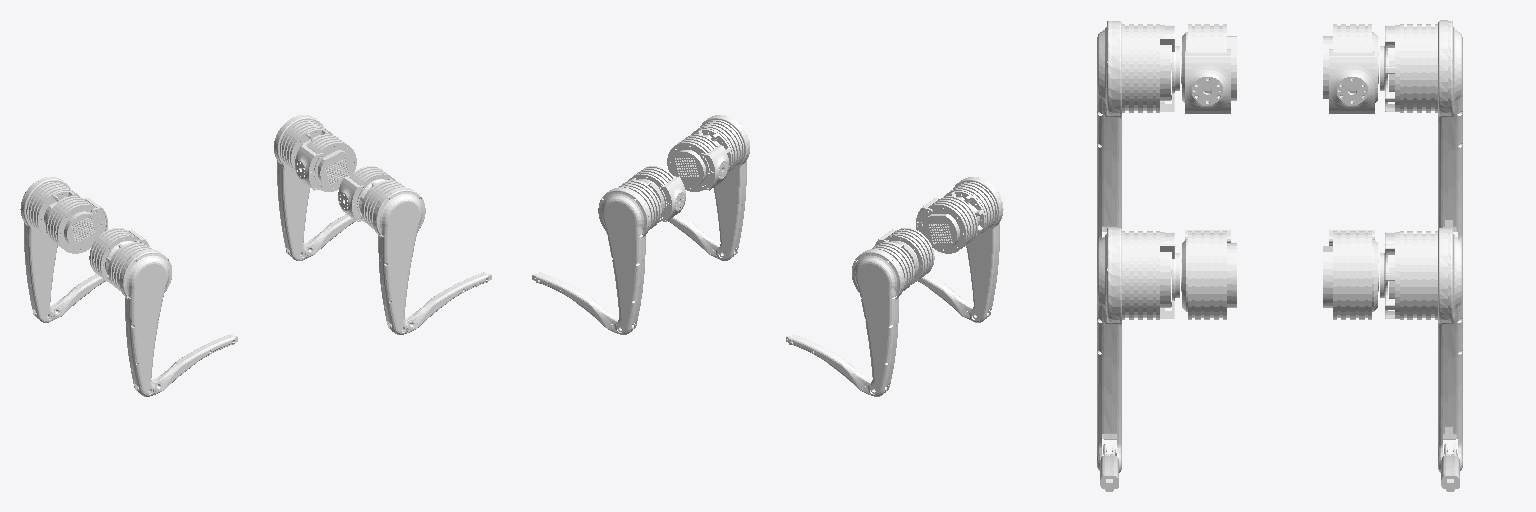
robot.urdf — jamal_description:
<?xml version="1.0" encoding="utf-8"?>
<!-- This URDF was automatically created by SolidWorks to URDF Exporter! Originally created by
[author] ([email redacted]) 
     Commit Version: 1.6.0-4-g7f85cfe  Build Version: 1.6.7995.38578
     For more information, please see http://wiki.ros.org/sw_urdf_exporter -->
<robot
  name="jamal_description">
  <link
    name="base">
    <inertial>
    <origin rpy="0 0 0" xyz="0.0 0 0.0"/>
      <mass value="12.8185384756311"/>
      <inertia ixx="0.0565667940678376" ixy="-8.54731557026013e-06" ixz="3.411601276539e-05" iyy="0.0364645326398335" iyz="-4.86965244292946e-06" izz="0.0737588756462406"/>
    </inertial>
    <visual>
      <origin
        xyz="0 0 0"
        rpy="0 0 0" />
      <geometry>
        <mesh
          filename="../dae/base.dae" />
      </geometry>
      <material
        name="">
        <color
          rgba="1 1 1 1" />
      </material>
    </visual>
    <collision>
      <origin rpy="0 0 0" xyz="0 0 0" />
      <geometry>
        <box size="0.3762 0.2 0.114" />
      </geometry>
    </collision>
  </link>
  <link
    name="FL_hip">
    <inertial>
      <origin rpy="0 0 0" xyz="0.0 0.0 0.0"/>
      <mass value="0.933762854916433"/>
      <inertia ixx="0.000832273911083319" ixy="2.01742652907359e-06" ixz="-9.96248193966734e-07" iyy="0.00106512043176046" iyz="-3.27660400510853e-06" izz="0.000803680416601427"/>
    </inertial>
    <visual>
      <origin
        xyz="0 0 0"
        rpy="0 0 0" />
      <geometry>
        <mesh
          filename="../dae/hip.dae" />
      </geometry>
      <material
        name="">
        <color
          rgba="1 1 1 1" />
      </material>
    </visual>
    <collision>
      <origin rpy="1.5707963267948966 0 0" xyz="0 0.0 0" />
      <geometry>
        <cylinder length="0.04" radius="0.046" />
      </geometry>
    </collision>
  </link>
  <joint
    name="FL_hip_joint"
    type="revolute">
    <origin
      rpy="0 0 0" xyz="0.2699 0.08028 0"/>
    <parent
      link="base" />
    <child
      link="FL_hip" />
    <axis
      xyz="1 0 0" />
    <limit
      lower="-0.53"
      upper="0.53"
      effort="100"
      velocity="8" />
  </joint>
  <link
    name="FL_thigh">
    <inertial>
      <origin rpy="0 0 0" xyz="0.0 0.0 0.0"/>
      <mass value="1.32134262348697"/>
      <inertia ixx="0.00262880898900224" ixy="3.0753036678596e-07" ixz="-6.6121911239445e-05" iyy="0.00316091750463634" iyz="4.01609105247509e-05" izz="0.00121962195056961"/>
    </inertial>
    <visual>
      <origin
        xyz="0 0 0"
        rpy="0 0 0" />
      <geometry>
        <mesh
          filename="../dae/thigh.dae" />
      </geometry>
      <material
        name="">
        <color
          rgba="1 1 1 1" />
      </material>
    </visual>
    <collision>
      <!-- <origin rpy="0 ${pi/2.0+0.1} 0" xyz="${thigh_x_offset} 0 ${-thigh_length/2.0}"/> -->
      <origin rpy="0 1.5707963267948966 0" xyz="0.0 0 -0.1125"/>
      <geometry>
        <box size="0.225 0.0245 0.034"/>
      </geometry>
    </collision>
    <collision>
      <origin rpy="1.5707963267948966 0 0" xyz="0 -0.008 0"/>
      <geometry>
        <cylinder length="0.032" radius="0.041"/>
      </geometry>
    </collision>
  </link>
  <joint
    name="FL_thigh_joint"
    type="revolute">
    <origin
      xyz="0 0.10755 0"
      rpy="0 0 0" />
    <parent
      link="FL_hip" />
    <child
      link="FL_thigh" />
    <axis
      xyz="0 1 0" />
    <limit
      lower="-1.5708"
      upper="3.4907"
      effort="100"
      velocity="8" />
  </joint>
  <link
    name="FL_calf">
    <inertial>
      <origin rpy="0 0 0" xyz="0.0 0.0 0.0"/>
      <mass value="0.12879265462489"/>
      <inertia ixx="0.000445341853265945" ixy="-7.71823686634482e-09" ixz="7.55836697902452e-05" iyy="0.000465686753688402" iyz="4.84096470394828e-09" izz="2.34278965180016e-05"/>
    </inertial>
    <visual>
      <origin
        xyz="0 0 0"
        rpy="0 0 0" />
      <geometry>
        <mesh
          filename="../dae/calf.dae" />
      </geometry>
      <material
        name="">
        <color
          rgba="1 1 1 1" />
      </material>
    </visual>
    <collision>
      <origin rpy="0 1.5707963267948966 0" xyz="0.0 0 -0.1175"/>
      <geometry>
        <box size="0.23 0.016 0.016"/>
      </geometry>
    </collision>
  </link>
  <joint
    name="FL_calf_joint"
    type="revolute">
    <origin
      xyz="0 0 -0.225"
      rpy="0 0 0" />
    <parent
      link="FL_thigh" />
    <child
      link="FL_calf" />
    <axis
      xyz="0 1 0" />
    <limit
      lower="-2.7227"
      upper="-0.83776"
      effort="100"
      velocity="20.07" />
  </joint>
  <link
    name="FL_foot">
    <inertial>
      <mass value="0.06"/>
      <inertia ixx="6.936000000000001e-06" ixy="0.0" ixz="0.0" iyy="6.936000000000001e-06" iyz="0.0" izz="6.936000000000001e-06"/>
    </inertial>
    <visual>
      <origin
        xyz="0 0 0"
        rpy="0 0 0" />
      <geometry>
        <mesh
          filename="../dae/foot.dae" />go2
      </geometry>
      <material
        name="">
        <color
          rgba="1 1 1 1" />
      </material>
    </visual>
    <collision>
      <origin rpy="0 0 0" xyz="0 0 0" />
      <geometry>
        <sphere radius="0.022" />
      </geometry>
    </collision>
  </link>
  <joint
    name="FL_foot_joint"
    type="fixed" dont_collapse="true">
    <origin
      xyz="0 0 -0.23"
      rpy="0 0 0" />
    <parent
      link="FL_calf" />
    <child
      link="FL_foot" />
    <axis
      xyz="0 0 0" />
  </joint>
  <link
    name="FR_hip">
    <inertial>
      <origin rpy="0 0 0" xyz="0.0 -0.0 0.0"/>
      <mass value="0.933762854916433"/>
      <inertia ixx="0.000832273911083319" ixy="-2.01742652907359e-06" ixz="-9.96248193966734e-07" iyy="0.00106512043176046" iyz="3.27660400510853e-06" izz="0.000803680416601427"/>
    </inertial>
    <visual>
      <origin
        xyz="0 0 0"
        rpy="3.1415 0 0" />
      <geometry>
        <mesh
          filename="../dae/hip.dae" />
      </geometry>
      <material
        name="">
        <color
          rgba="1 1 1 1" />
      </material>
    </visual>
    <collision>
      <origin rpy="1.5707963267948966 0 0" xyz="0 0 0"/>
      <geometry>
        <cylinder length="0.04" radius="0.046"/>
      </geometry>
    </collision>
  </link>
  <joint
    name="FR_hip_joint"
    type="revolute">
    <origin rpy="0 0 0" xyz="0.2699 -0.08028 0"/>
    <parent
      link="base" />
    <child
      link="FR_hip" />
    <axis
      xyz="1 0 0" />
    <limit
      lower="-0.53"
      upper="0.53"
      effort="100"
      velocity="8" />
  </joint>
  <link
    name="FR_thigh">
    <inertial>
      <origin rpy="0 0 0" xyz="0.0 -0.0 0.0"/>
      <mass value="1.32134262348697"/>
      <inertia ixx="0.00262880898900224" ixy="-3.0753036678596e-07" ixz="-6.6121911239445e-05" iyy="0.00316091750463634" iyz="-4.01609105247509e-05" izz="0.00121962195056961"/>
    </inertial>
    <visual>
      <origin
        xyz="0 0 0"
        rpy="0 0 0" />
      <geometry>
        <mesh
          filename="../dae/thigh_mirror.dae" />
      </geometry>
      <material
        name="">
        <color
          rgba="1 1 1 1" />
      </material>
    </visual>
    <collision>
      <!-- <origin rpy="0 ${pi/2.0+0.1} 0" xyz="${thigh_x_offset} 0 ${-thigh_length/2.0}"/> -->
      <origin rpy="0 1.5707963267948966 0" xyz="0.0 0 -0.1125"/>
      <geometry>
        <box size="0.225 0.0245 0.034"/>
      </geometry>
    </collision>
    <collision>
      <origin rpy="1.5707963267948966 0 0" xyz="0 0.008 0"/>
      <geometry>
        <cylinder length="0.032" radius="0.041"/>
      </geometry>
    </collision>
  </link>
  <joint
    name="FR_thigh_joint"
    type="revolute">
    <origin rpy="0 0 0" xyz="0 -0.10755 0"/>
    <parent
      link="FR_hip" />
    <child
      link="FR_thigh" />
    <axis
      xyz="0 1 0" />
    <limit
      lower="-1.5708"
      upper="3.4907"
      effort="100"
      velocity="8" />
  </joint>
  <link
    name="FR_calf">
    <inertial>
      <origin rpy="0 0 0" xyz="0.0 0.0 0.0"/>
      <mass value="0.12879265462489"/>
      <inertia ixx="0.000445341853265945" ixy="-7.71823686634482e-09" ixz="7.55836697902452e-05" iyy="0.000465686753688402" iyz="4.84096470394828e-09" izz="2.34278965180016e-05"/>
    </inertial>
    <visual>
      <origin
        xyz="0 0 0"
        rpy="0 0 0" />
      <geometry>
        <mesh
          filename="../dae/calf.dae" />
      </geometry>
      <material
        name="">
        <color
          rgba="1 1 1 1" />
      </material>
    </visual>
    <collision>
      <origin rpy="0 1.5707963267948966 0" xyz="0.0 0 -0.1175"/>
      <geometry>
        <box size="0.23 0.016 0.016"/>
      </geometry>
    </collision>
  </link>
  <joint
    name="FR_calf_joint"
    type="revolute">
    <origin rpy="0 0 0" xyz="0 0 -0.225"/>
    <parent
      link="FR_thigh" />
    <child
      link="FR_calf" />
    <axis
      xyz="0 1 0" />
    <limit
      lower="-2.7227"
      upper="-0.83776"
      effort="100"
      velocity="20.07" />
  </joint>
  <link
    name="FR_foot">
    <inertial>
      <mass value="0.06"/>
      <inertia ixx="6.936000000000001e-06" ixy="0.0" ixz="0.0" iyy="6.936000000000001e-06" iyz="0.0" izz="6.936000000000001e-06"/>
    </inertial>
    <visual>
      <origin
        xyz="0 0 0"
        rpy="0 0 0" />
      <geometry>
        <mesh
          filename="../dae/foot.dae" />
      </geometry>
      <material
        name="">
        <color
          rgba="1 1 1 1" />
      </material>
    </visual>
    <collision>
      <origin rpy="0 0 0" xyz="0 0 0"/>
      <geometry>
        <sphere radius="0.02"/>
      </geometry>
    </collision>
  </link>
  <joint
    name="FR_foot_joint"
    type="fixed" dont_collapse="true">
    <origin rpy="0 0 0" xyz="0 0 -0.23"/>
    <parent
      link="FR_calf" />
    <child
      link="FR_foot" />
    <axis
      xyz="0 0 0" />
  </joint>
  <link
    name="RL_hip">
    <inertial>
      <origin rpy="0 0 0" xyz="-0.0 0.0 0.0"/>
      <mass value="0.933762854916433"/>
      <inertia ixx="0.000832273911083319" ixy="-2.01742652907359e-06" ixz="9.96248193966734e-07" iyy="0.00106512043176046" iyz="-3.27660400510853e-06" izz="0.000803680416601427"/>
    </inertial>
    <visual>
      <origin
        xyz="0 0 0"
        rpy="0 3.1415 0" />
      <geometry>
        <mesh
          filename="../dae/hip.dae" />
      </geometry>
      <material
        name="">
        <color
          rgba="1 1 1 1" />
      </material>
    </visual>
    <collision>
      <origin rpy="1.5707963267948966 0 0" xyz="0 0 0"/>
      <geometry>
        <cylinder length="0.04" radius="0.046"/>
      </geometry>
    </collision>
  </link>
  <joint
    name="RL_hip_joint"
    type="revolute">
    <origin rpy="0 0 0" xyz="-0.2699 0.08028 0"/>
    <parent
      link="base" />
    <child
      link="RL_hip" />
    <axis
      xyz="1 0 0" />
    <limit
      lower="-0.53"
      upper="0.53"
      effort="100"
      velocity="8" />
  </joint>
  <link
    name="RL_thigh">
    <inertial>
      <origin rpy="0 0 0" xyz="0.0 0.0 0.0"/>
      <mass value="1.32134262348697"/>
      <inertia ixx="0.00262880898900224" ixy="3.0753036678596e-07" ixz="-6.6121911239445e-05" iyy="0.00316091750463634" iyz="4.01609105247509e-05" izz="0.00121962195056961"/>
    </inertial>
    <visual>
      <origin
        xyz="0 0 0"
        rpy="0 0 0" />
      <geometry>
        <mesh
          filename="../dae/thigh.dae" />
      </geometry>
      <material
        name="">
        <color
          rgba="1 1 1 1" />
      </material>
    </visual>
    <collision>
      <!-- <origin rpy="0 ${pi/2.0+0.1} 0" xyz="${thigh_x_offset} 0 ${-thigh_length/2.0}"/> -->
      <origin rpy="0 1.5707963267948966 0" xyz="0.0 0 -0.1125"/>
      <geometry>
        <box size="0.225 0.0245 0.034"/>
      </geometry>
    </collision>
    <collision>
      <origin rpy="1.5707963267948966 0 0" xyz="0 -0.008 0"/>
      <geometry>
        <cylinder length="0.032" radius="0.041"/>
      </geometry>
    </collision>
  </link>
  <joint
    name="RL_thigh_joint"
    type="revolute">
    <origin rpy="0 0 0" xyz="0 0.10755 0"/>
    <parent
      link="RL_hip" />
    <child
      link="RL_thigh" />
    <axis
      xyz="0 1 0" />
    <limit
      lower="-0.5236"
      upper="4.5379"
      effort="100"
      velocity="8" />
  </joint>
  <link
    name="RL_calf">
    <inertial>
      <origin rpy="0 0 0" xyz="0.0 0.0 0.0"/>
      <mass value="0.12879265462489"/>
      <inertia ixx="0.000445341853265945" ixy="-7.71823686634482e-09" ixz="7.55836697902452e-05" iyy="0.000465686753688402" iyz="4.84096470394828e-09" izz="2.34278965180016e-05"/>
    </inertial>
    <visual>
      <origin
        xyz="0 0 0"
        rpy="0 0 0" />
      <geometry>
        <mesh
          filename="../dae/calf.dae" />
      </geometry>
      <material
        name="">
        <color
          rgba="1 1 1 1" />
      </material>
    </visual>
    <collision>
      <origin rpy="0 1.5707963267948966 0" xyz="0.0 0 -0.1175"/>
      <geometry>
        <box size="0.23 0.016 0.016"/>
      </geometry>
    </collision>
  </link>
  <joint
    name="RL_calf_joint"
    type="revolute">
    <origin rpy="0 0 0" xyz="0 0 -0.225"/>
    <parent
      link="RL_thigh" />
    <child
      link="RL_calf" />
    <axis
      xyz="0 1 0" />
    <limit
      lower="-2.7227"
      upper="-0.83776"
      effort="100"
      velocity="20.07" />
  </joint>
  <link
    name="RL_foot">
    <inertial>
      <mass value="0.06"/>
      <inertia ixx="6.936000000000001e-06" ixy="0.0" ixz="0.0" iyy="6.936000000000001e-06" iyz="0.0" izz="6.936000000000001e-06"/>
    </inertial>
    <visual>
      <origin
        xyz="0 0 0"
        rpy="0 0 0" />
      <geometry>
        <mesh
          filename="../dae/foot.dae" />
      </geometry>
      <material
        name="">
        <color
          rgba="1 1 1 1" />
      </material>
    </visual>
    <collision>
      <origin rpy="0 0 0" xyz="0 0 0"/>
      <geometry>
        <sphere radius="0.02"/>
      </geometry>
    </collision>
  </link>
  <joint
    name="RL_foot_joint"
    type="fixed" dont_collapse="true">
    <origin rpy="0 0 0" xyz="0 0 -0.23"/>
    <parent
      link="RL_calf" />
    <child
      link="RL_foot" />
    <axis
      xyz="0 0 0" />
  </joint>
  <link
    name="RR_hip">
    <inertial>
      <origin rpy="0 0 0" xyz="-0.0 -0.0 0.0"/>
      <mass value="0.933762854916433"/>
      <inertia ixx="0.000832273911083319" ixy="2.01742652907359e-06" ixz="9.96248193966734e-07" iyy="0.00106512043176046" iyz="3.27660400510853e-06" izz="0.000803680416601427"/>
    </inertial>
    <visual>
      <origin
        xyz="0 0 0"
        rpy="3.1415 3.1415 0" />
      <geometry>
        <mesh
          filename="../dae/hip.dae" />
      </geometry>
      <material
        name="">
        <color
          rgba="1 1 1 1" />
      </material>
    </visual>
    <collision>
      <origin rpy="1.5707963267948966 0 0" xyz="0 0 0"/>
      <geometry>
        <cylinder length="0.04" radius="0.046"/>
      </geometry>
    </collision>
  </link>
  <joint
    name="RR_hip_joint"
    type="revolute">
    <origin rpy="0 0 0" xyz="-0.2699 -0.08028 0"/>
    <parent
      link="base" />
    <child
      link="RR_hip" />
    <axis
      xyz="1 0 0" />
    <limit
      lower="-0.53"
      upper="0.53"
      effort="100"
      velocity="8" />
  </joint>
  <link
    name="RR_thigh">
    <inertial>
      <origin rpy="0 0 0" xyz="0.0 -0.0 0.0"/>
      <mass value="1.32134262348697"/>
      <inertia ixx="0.00262880898900224" ixy="-3.0753036678596e-07" ixz="-6.6121911239445e-05" iyy="0.00316091750463634" iyz="-4.01609105247509e-05" izz="0.00121962195056961"/>
    </inertial>
    <visual>
      <origin
        xyz="0 0 0"
        rpy="0 0 0" />
      <geometry>
        <mesh
          filename="../dae/thigh_mirror.dae" />
      </geometry>
      <material
        name="">
        <color
          rgba="1 1 1 1" />
      </material>
    </visual>
    <collision>
      <!-- <origin rpy="0 ${pi/2.0+0.1} 0" xyz="${thigh_x_offset} 0 ${-thigh_length/2.0}"/> -->
      <origin rpy="0 1.5707963267948966 0" xyz="0.0 0 -0.1125"/>
      <geometry>
        <box size="0.225 0.0245 0.034"/>
      </geometry>
    </collision>
    <collision>
      <origin rpy="1.5707963267948966 0 0" xyz="0 0.008 0"/>
      <geometry>
        <cylinder length="0.032" radius="0.041"/>
      </geometry>
    </collision>
  </link>
  <joint
    name="RR_thigh_joint"
    type="revolute">
    <origin rpy="0 0 0" xyz="0 -0.10755 0"/>
    <parent
      link="RR_hip" />
    <child
      link="RR_thigh" />
    <axis
      xyz="0 1 0" />
    <limit
      lower="-0.5236"
      upper="4.5379"
      effort="100"
      velocity="8" />
  </joint>
  <link
    name="RR_calf">
    <inertial>
      <origin rpy="0 0 0" xyz="0.0 0.0 0.0"/>
      <mass value="0.12879265462489"/>
      <inertia ixx="0.000445341853265945" ixy="-7.71823686634482e-09" ixz="7.55836697902452e-05" iyy="0.000465686753688402" iyz="4.84096470394828e-09" izz="2.34278965180016e-05"/>
    </inertial>
    <visual>
      <origin
        xyz="0 0 0"
        rpy="0 0 0" />
      <geometry>
        <mesh
          filename="../dae/calf.dae" />
      </geometry>
      <material
        name="">
        <color
          rgba="1 1 1 1" />
      </material>
    </visual>
    <collision>
      <origin rpy="0 1.5707963267948966 0" xyz="0.0 0 -0.1175"/>
      <geometry>
        <box size="0.23 0.016 0.016"/>
      </geometry>
    </collision>
  </link>
  <joint
    name="RR_calf_joint"
    type="revolute">
    <origin rpy="0 0 0" xyz="0 0 -0.225"/>
    <parent
      link="RR_thigh" />
    <child
      link="RR_calf" />
    <axis
      xyz="0 1 0" />
    <limit
      lower="-2.7227"
      upper="-0.83776"
      effort="100"
      velocity="20.07" />
  </joint>
  <link
    name="RR_foot">
    <inertial>
      <mass value="0.06"/>
      <inertia ixx="6.936000000000001e-06" ixy="0.0" ixz="0.0" iyy="6.936000000000001e-06" iyz="0.0" izz="6.936000000000001e-06"/>
    </inertial>
    <visual>
      <origin
        xyz="0 0 0"
        rpy="0 0 0" />
      <geometry>
        <mesh
          filename="../dae/foot.dae" />
      </geometry>
      <material
        name="">
        <color
          rgba="1 1 1 1" />
      </material>
    </visual>
    <collision>
      <origin rpy="0 0 0" xyz="0 0 0"/>
      <geometry>
        <sphere radius="0.02"/>
      </geometry>
    </collision>
  </link>
  <joint
    name="RR_foot_joint"
    type="fixed" dont_collapse="true">
    <origin rpy="0 0 0" xyz="0 0 -0.23"/>
    <parent
      link="RR_calf" />
    <child
      link="RR_foot" />
    <axis
      xyz="0 0 0" />
  </joint>
  <link
    name="imu">
    <inertial>
      <origin
        xyz="0 0 0"
        rpy="0 0 0" />
      <mass
        value="0" />
      <inertia
        ixx="0"
        ixy="0"
        ixz="0"
        iyy="0"
        iyz="0"
        izz="0" />
    </inertial>
  </link>
  <joint
    name="imu_joint"
    type="fixed">
    <origin
      xyz="-0.02557 0 0.04232"
      rpy="0 0 0" />
    <parent
      link="base" />
    <child
      link="imu" />
    <axis
      xyz="0 0 0" />
  </joint>
</robot>

--- What the picture shows (computed from the rendered views, not written in the file) ---
The picture shows the robot from 3 angles, left to right: view 1: azimuth 30°, elevation 25°; view 2: azimuth 150°, elevation 25°; view 3: azimuth 270°, elevation 25°; orthographic projection.
Model jamal_description with 18 links and 17 joints (12 revolute, 5 fixed), rooted at base, posed joints at zero except 4 at the middle of their limits (FL_calf_joint = -1.78, FR_calf_joint = -1.78, RL_calf_joint = -1.78, RR_calf_joint = -1.78).
Visible links, largest first — view 1: FR_thigh, RR_thigh, RL_thigh, FL_thigh, RL_hip, FL_hip, FR_hip, RR_hip, FR_calf, RR_calf, RL_calf, FL_calf; view 2: FL_thigh, RL_thigh, RR_thigh, FR_thigh, RR_hip, FR_hip, FL_hip, RL_hip, FL_calf, RL_calf, RR_calf, FR_calf; view 3: FR_thigh, FL_thigh, RR_thigh, RL_thigh, FR_hip, RR_hip, RL_hip, FL_hip, FL_calf, FR_calf.
Link boxes in pixels (x1,y1,x2,y2): FR_thigh: [360, 178, 425, 334]; RR_thigh: [107, 240, 171, 396]; RL_thigh: [20, 177, 79, 322]; FL_thigh: [274, 115, 332, 260]; RL_hip: [46, 196, 107, 253]; FL_hip: [295, 134, 356, 191]; FR_hip: [338, 166, 395, 222]; RR_hip: [89, 228, 149, 284]; FR_calf: [388, 272, 491, 333]; RR_calf: [134, 334, 237, 394]; RL_calf: [33, 274, 105, 320]; FL_calf: [286, 214, 355, 258]; FL_thigh: [598, 178, 661, 334]; RL_thigh: [852, 240, 914, 396]; RR_thigh: [944, 177, 1003, 322]; FR_thigh: [691, 115, 749, 260]; RR_hip: [916, 196, 977, 253]; FR_hip: [667, 134, 728, 191]; FL_hip: [628, 166, 685, 222]; RL_hip: [874, 228, 934, 284]; FL_calf: [532, 272, 635, 333]; RL_calf: [786, 334, 889, 395]; RR_calf: [918, 274, 990, 320]; FR_calf: [668, 214, 737, 258]; FR_thigh: [1097, 228, 1179, 472]; FL_thigh: [1380, 228, 1462, 472]; RR_thigh: [1097, 21, 1179, 243]; RL_thigh: [1380, 20, 1462, 243]; FR_hip: [1181, 230, 1236, 319]; RR_hip: [1181, 24, 1236, 113]; RL_hip: [1323, 24, 1378, 113]; FL_hip: [1323, 230, 1378, 319]; FL_calf: [1441, 444, 1459, 491]; FR_calf: [1100, 444, 1118, 491].
Size in the robot's own frame: 0.7844 by 0.4028 by 0.2923 metres.
Meshes: 6 distinct files referenced, 12 mesh visuals loaded (4 Collada DAE); not drawn: 5 (reference not matched to a file when rendering).
